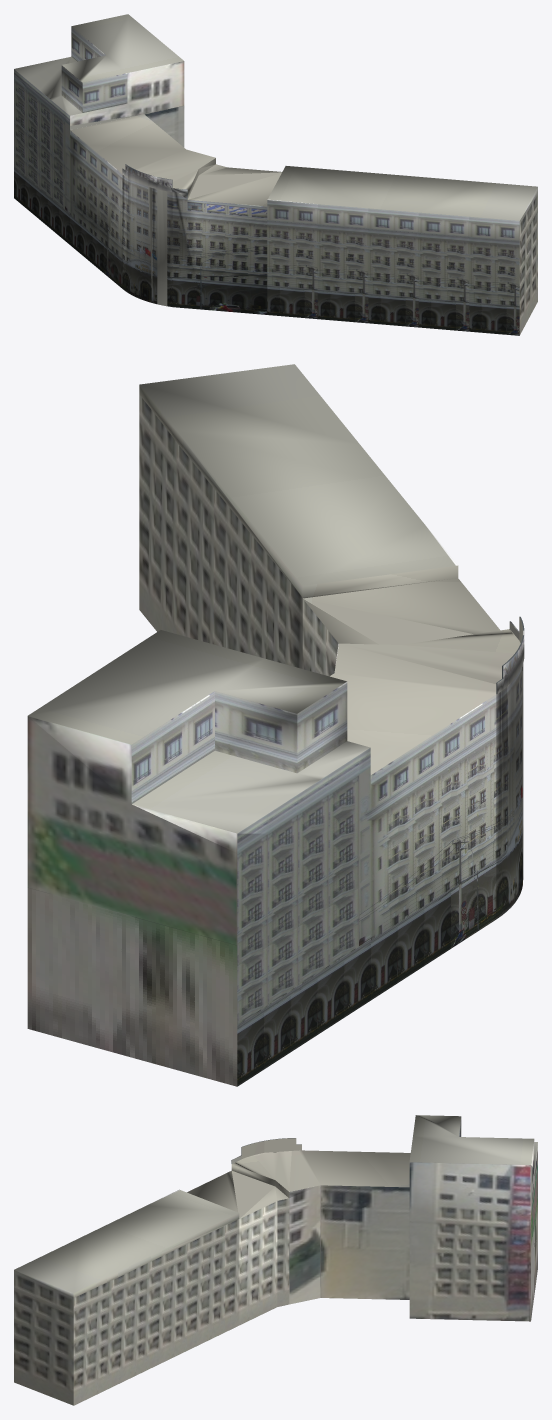
The model's file is majestic.fbx.
3 views of the same model, one above another, from view 1: azimuth 30°, elevation 25°; view 2: azimuth 150°, elevation 25°; view 3: azimuth 270°, elevation 25° (orthographic). The views are drawn at different scales.
Parts seen in each view (by area): view 1: Mesh1_Majestic1_Model; view 2: Mesh1_Majestic1_Model; view 3: Mesh1_Majestic1_Model.
Boxes of the visible parts, box(x1,y1,x2,y2) form: Mesh1_Majestic1_Model: box(14, 14, 537, 335); Mesh1_Majestic1_Model: box(27, 364, 524, 1086); Mesh1_Majestic1_Model: box(14, 1115, 537, 1405).
Bounding box in the file's own units: 3032 × 1546 × 4693.
Materials: 77 (76 with a texture image).
